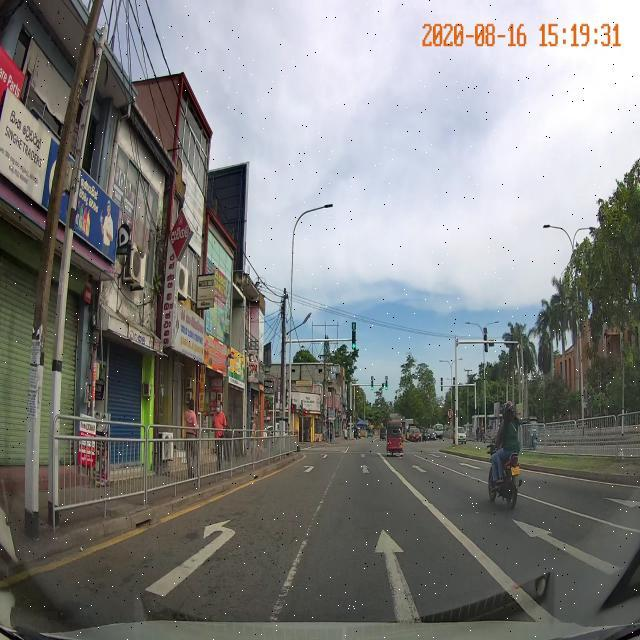forward: (266, 510, 558, 619)
